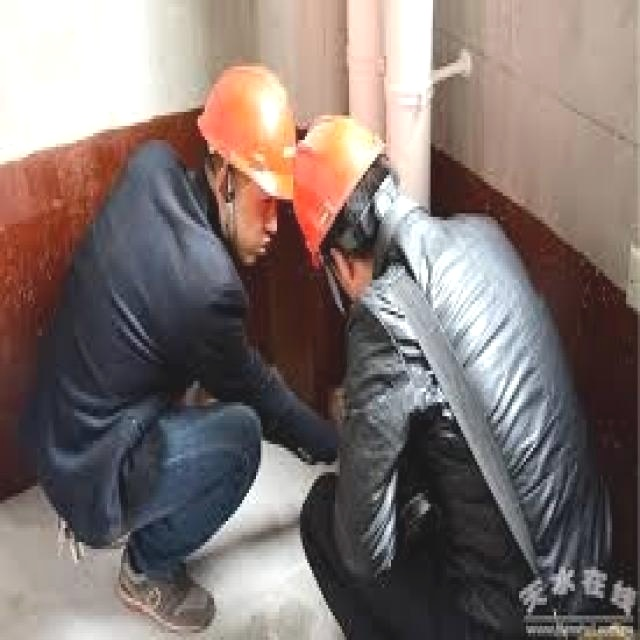Con_Casco: (197, 64, 295, 261)
